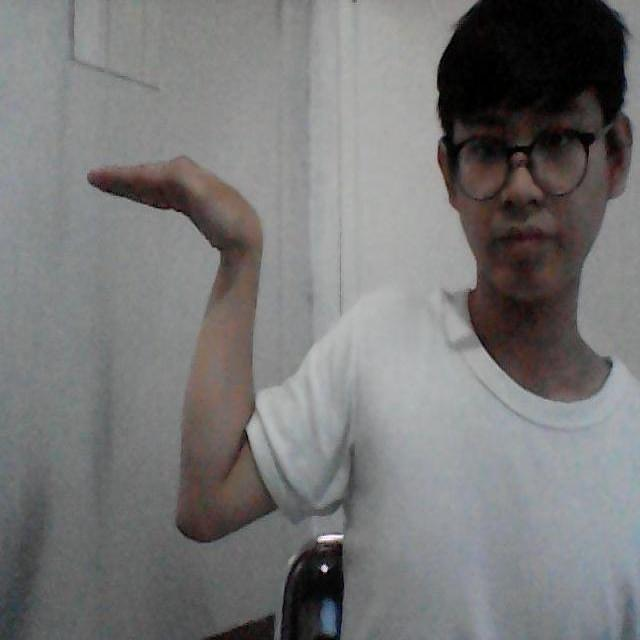Z: (70, 139, 308, 548)
